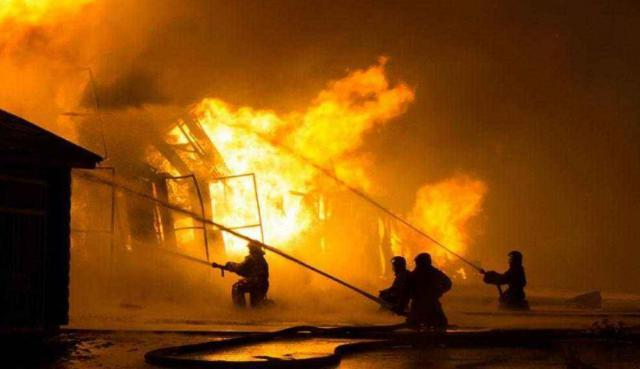fire: (267, 109, 357, 166), (207, 100, 270, 172), (322, 69, 403, 124), (259, 166, 313, 245), (412, 182, 478, 229), (207, 176, 257, 227), (336, 158, 382, 191), (433, 229, 471, 263), (402, 228, 433, 253), (222, 232, 245, 255), (243, 228, 261, 237)
